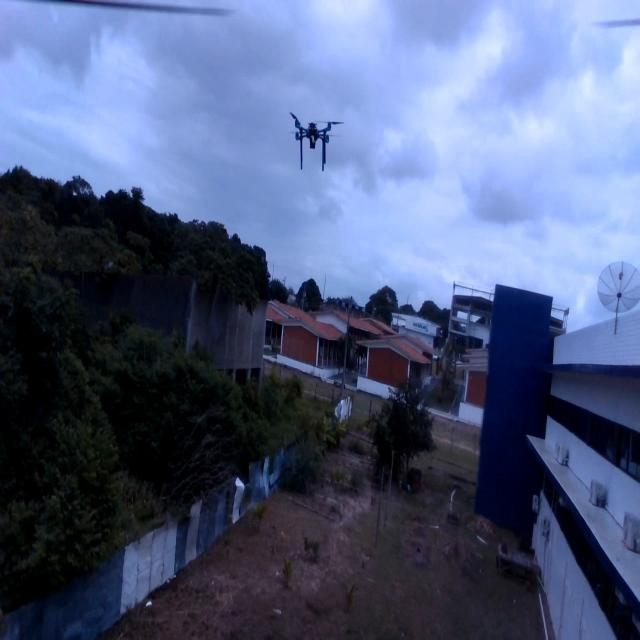-uav-: (282, 99, 348, 178)
